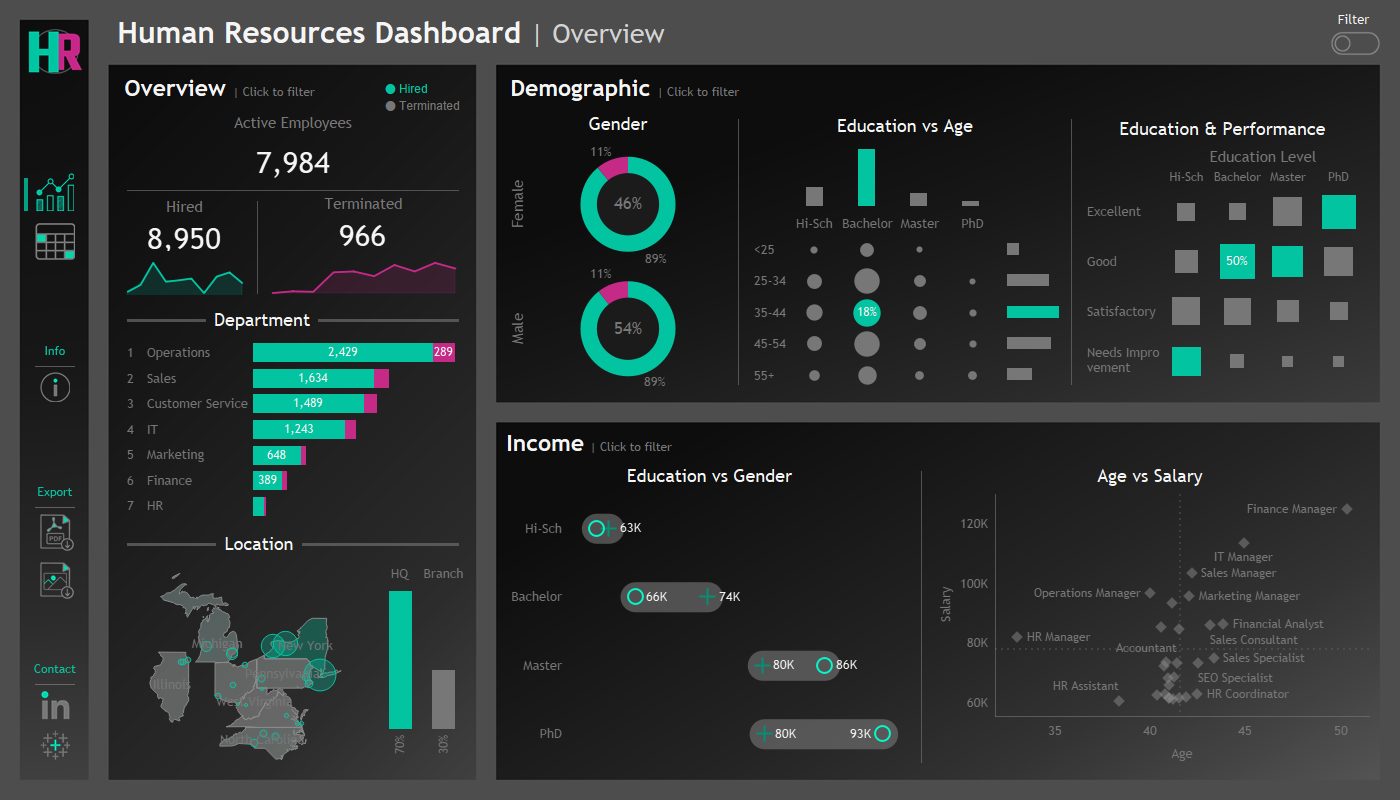

What the dashboard file says about the page in this screenshot:
{"tool":"tableau","page":{"name":"HR | Summary","canvas":[1400,800],"ordinal":1},"visuals":[{"type":"image","param":"Image/summary.png","box":[0,0,1400,800]},{"type":"blank","box":[109,0,1290,308]},{"type":"text","box":[110,0,681,65]},{"type":"blank","box":[791,0,589,65]},{"type":"text","box":[1318,5,71,30]},{"type":"filter","title":"Gender Vs Education level","param":"[federated.0n83fod01ln1k8193m94o0uipbe2].[none:Gender:nk]","box":[761,8,140,50]},{"type":"filter","title":"Map state","param":"[federated.0n83fod01ln1k8193m94o0uipbe2].[none:Calculation_1094093302411759674:n","box":[901,8,140,50]},{"type":"filter","title":"Gender Vs Education level","param":"[federated.0n83fod01ln1k8193m94o0uipbe2].[none:Calculation_1094093301217964047:n","box":[1041,8,139,50]},{"type":"filter","title":"Gender Vs Education level","param":"[federated.0n83fod01ln1k8193m94o0uipbe2].[yr:Hiredate:ok]","box":[1180,8,139,50]},{"type":"image","param":"Image/Logo.png","box":[20,20,70,63]},{"type":"dashboard-object","box":[1330,22,50,43]},{"type":"text","box":[117,72,352,32]},{"type":"text","box":[503,72,870,32]},{"type":"text","box":[382,80,86,38]},{"type":"blank","box":[20,83,70,80]},{"type":"text","box":[117,104,352,32]},{"type":"text","box":[503,109,230,29]},{"type":"blank","box":[738,109,1,286.5]},{"type":"text","box":[744,109,322,33]},{"type":"blank","box":[1071,109,1,286.5]},{"type":"text","box":[1077,114,291,29]},{"type":"worksheet","title":"BAN Active","mark":"Text","box":[117,136,352,54]},{"type":"worksheet","title":"Gender","mark":"Pie","rows":["Gender"],"cols":["Calculation_1094093301300764695","Calculation_1094093301300764695"],"box":[503,138,230,257.5]},{"type":"worksheet","title":"Education level","mark":"Bar","rows":["Calculation_1094093301064650752"],"cols":["Education Level"],"box":[744,142,322,68]},{"type":"worksheet","title":"Education vs Performance","mark":"Square","rows":["Performance Rating"],"cols":["Education Level"],"box":[1077,143,291,247.5]},{"type":"dashboard-object","box":[30,173,50,38]},{"type":"blank","box":[24,178,4,33]},{"type":"blank","box":[117,190,352,1]},{"type":"text","box":[117,191,135,32]},{"type":"blank","box":[257,191,1,113]},{"type":"text","box":[258,191,211,26]},{"type":"worksheet","title":"Age vs Education","mark":"Circle","rows":["Calculation_1094093301398900764"],"cols":["Education Level"],"box":[744,210,259,185.5]},{"type":"worksheet","title":"Age groups","mark":"Bar","rows":["Calculation_1094093301398900764"],"cols":["Calculation_1094093301064650752"],"box":[1003,210,63,185.5]},{"type":"blank","box":[30,211,50,10]},{"type":"worksheet","title":"BAN Terminated","mark":"Text","box":[258,217,211,39]},{"type":"dashboard-object","box":[30,221,50,40]},{"type":"worksheet","title":"BAN Hired","mark":"Text","box":[117,223,135,33]},{"type":"worksheet","title":"Hired by year","mark":"Line","rows":["Calculation_1094093301064650752","Calculation_1094093301064650752"],"cols":["Hiredate"],"box":[117,256,135,43]},{"type":"worksheet","title":"Terminated by year","mark":"Line","rows":["Calculation_1094093301065015297","Calculation_1094093301065015297"],"cols":["Termdate"],"box":[258,256,211,43]},{"type":"blank","box":[30,261,50,80]},{"type":"blank","box":[127,304,79,32]},{"type":"text","box":[206,304,112,32]},{"type":"blank","box":[318,304,141,32]},{"type":"text","box":[109,308,1290,209]},{"type":"worksheet","title":"Department","mark":"Bar","rows":["Calculation_1094093301216133131","Department"],"cols":["Calculation_1094093301064650752"],"box":[117,336,352,187]},{"type":"text","box":[30,341,50,20]},{"type":"blank","box":[30,361,50,11]},{"type":"dashboard-object","box":[30,372,50,30]},{"type":"blank","box":[30,402,50,80]},{"type":"text","box":[503,429.5,870,27]},{"type":"text","box":[503,461.5,413,29]},{"type":"blank","box":[921,461.5,1,311.5]},{"type":"text","box":[927,461.5,446,29]},{"type":"text","box":[30,482,50,20]},{"type":"worksheet","title":"Gender Vs Education level","mark":"Square","rows":["Education Level"],"cols":["Salary","Salary"],"box":[503,490.5,413,282.5]},{"type":"worksheet","title":"Age vs Salary","mark":"Shape","rows":["Salary"],"cols":["Calculation_1094093301398069274"],"box":[927,490.5,446,282.5]},{"type":"blank","box":[30,502,50,11]},{"type":"dashboard-object","box":[30,513,50,38]},{"type":"blank","box":[109,517,1290,283]},{"type":"blank","box":[127,528,89,32]},{"type":"text","box":[216,528,86,32]},{"type":"blank","box":[302,528,157,32]},{"type":"blank","box":[30,551,50,10]},{"type":"worksheet","title":"Map state","mark":"Automatic","box":[117,560,257,213]},{"type":"worksheet","title":"Location","mark":"Bar","rows":["Calculation_1094093301064650752"],"cols":["Calculation_1094093301217964047","Calculation1"],"box":[374,560,95,213]},{"type":"dashboard-object","box":[30,561,50,38]},{"type":"blank","box":[30,599,50,60]},{"type":"text","box":[30,659,50,20]},{"type":"blank","box":[30,679,50,11]},{"type":"image","param":"Image/contact-linkedin.png","box":[30,690,50,30]},{"type":"blank","box":[30,720,50,10]},{"type":"image","param":"Image/contact-public.png","box":[30,730,50,30]}]}

Visuals, with their boxes in screenshot pixels (x1, y1, x2, y2), scaled from the page's 1400x800 canvas onto the 1400x800 screenshot:
image: (0,0,1399,799)
blank: (109,0,1399,308)
text: (110,0,791,65)
blank: (791,0,1380,65)
text: (1318,5,1389,35)
"Gender Vs Education level" filter: (761,8,901,58)
"Map state" filter: (901,8,1041,58)
"Gender Vs Education level" filter: (1041,8,1180,58)
"Gender Vs Education level" filter: (1180,8,1319,58)
image: (20,20,90,83)
dashboard-object: (1330,22,1380,65)
text: (117,72,469,104)
text: (503,72,1373,104)
text: (382,80,468,118)
blank: (20,83,90,163)
text: (117,104,469,136)
text: (503,109,733,138)
blank: (738,109,739,396)
text: (744,109,1066,142)
blank: (1071,109,1072,396)
text: (1077,114,1368,143)
"BAN Active" worksheet (Text marks): (117,136,469,190)
"Gender" worksheet (Pie marks): (503,138,733,396)
"Education level" worksheet (Bar marks): (744,142,1066,210)
"Education vs Performance" worksheet (Square marks): (1077,143,1368,390)
dashboard-object: (30,173,80,211)
blank: (24,178,28,211)
blank: (117,190,469,191)
text: (117,191,252,223)
blank: (257,191,258,304)
text: (258,191,469,217)
"Age vs Education" worksheet (Circle marks): (744,210,1003,396)
"Age groups" worksheet (Bar marks): (1003,210,1066,396)
blank: (30,211,80,221)
"BAN Terminated" worksheet (Text marks): (258,217,469,256)
dashboard-object: (30,221,80,261)
"BAN Hired" worksheet (Text marks): (117,223,252,256)
"Hired by year" worksheet (Line marks): (117,256,252,299)
"Terminated by year" worksheet (Line marks): (258,256,469,299)
blank: (30,261,80,341)
blank: (127,304,206,336)
text: (206,304,318,336)
blank: (318,304,459,336)
text: (109,308,1399,517)
"Department" worksheet (Bar marks): (117,336,469,523)
text: (30,341,80,361)
blank: (30,361,80,372)
dashboard-object: (30,372,80,402)
blank: (30,402,80,482)
text: (503,430,1373,456)
text: (503,462,916,490)
blank: (921,462,922,773)
text: (927,462,1373,490)
text: (30,482,80,502)
"Gender Vs Education level" worksheet (Square marks): (503,490,916,773)
"Age vs Salary" worksheet (Shape marks): (927,490,1373,773)
blank: (30,502,80,513)
dashboard-object: (30,513,80,551)
blank: (109,517,1399,799)
blank: (127,528,216,560)
text: (216,528,302,560)
blank: (302,528,459,560)
blank: (30,551,80,561)
"Map state" worksheet: (117,560,374,773)
"Location" worksheet (Bar marks): (374,560,469,773)
dashboard-object: (30,561,80,599)
blank: (30,599,80,659)
text: (30,659,80,679)
blank: (30,679,80,690)
image: (30,690,80,720)
blank: (30,720,80,730)
image: (30,730,80,760)
